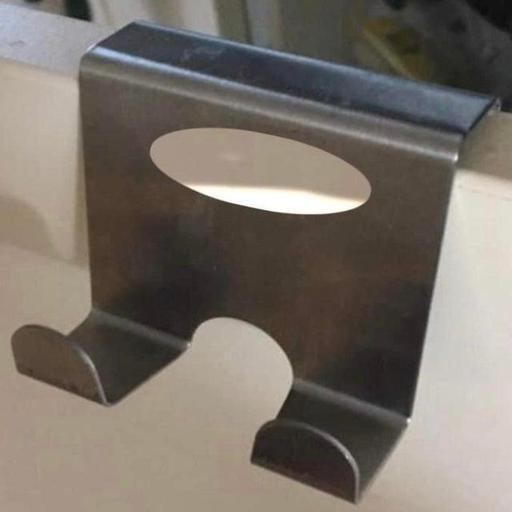Crewmate: (13, 17, 488, 505)
